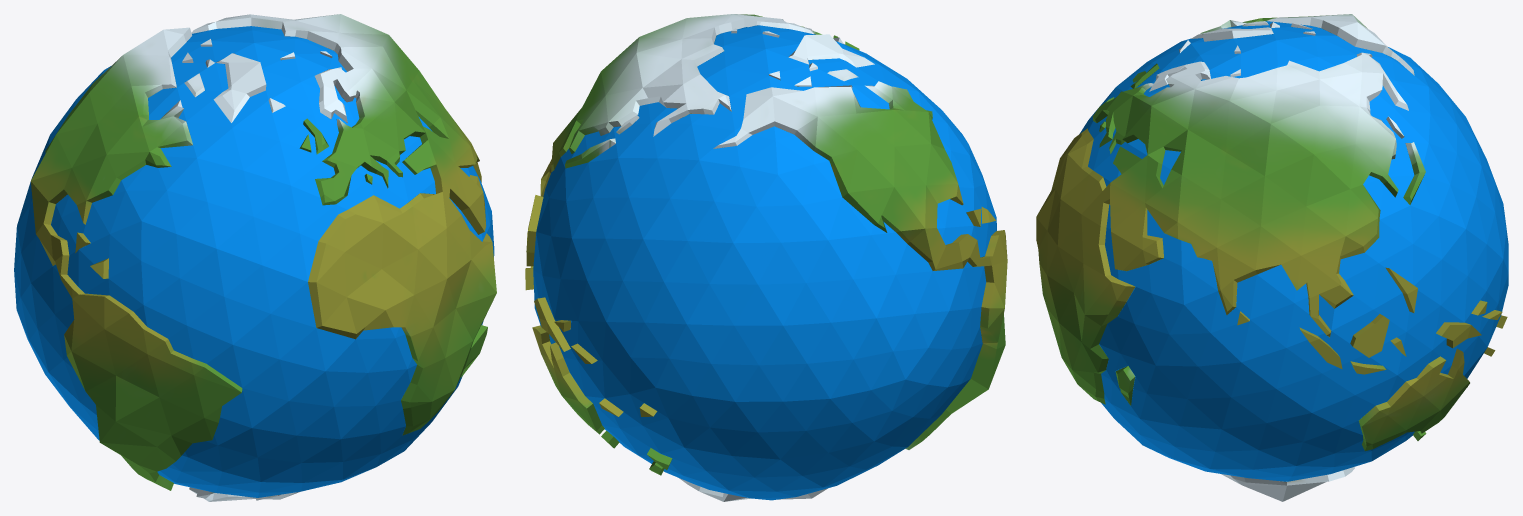
Rendered from globe.gltf.
3 renders of one model, left to right at view 1: azimuth 30°, elevation 25°; view 2: azimuth 150°, elevation 25°; view 3: azimuth 270°, elevation 25°, orthographic. The views are drawn at different scales.
Visible parts, largest first — view 1: earth4; view 2: earth4; view 3: earth4.
Part boxes in pixels (x1,y1,x2,y2): earth4: (14,14,496,501); earth4: (525,14,1007,501); earth4: (1036,14,1508,501).
Bounding box in the file's own units: 17.33 × 17.94 × 17.29.
2 materials, 2 textured.
